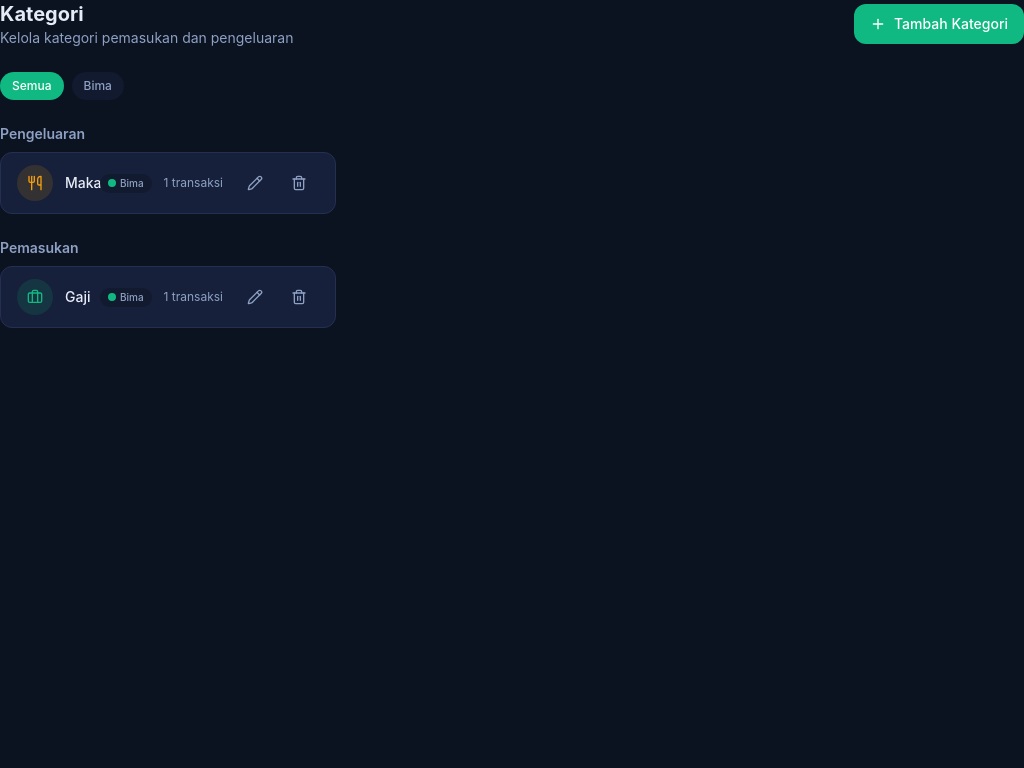
Test: CategoriesPage › allows deleting a category that is in use (transactions keep their data)
Expected: the text "Makanan" is shown, x1=65 y1=173 x2=88 y2=193
Click the button named "Hapus" in the row of "Makanan": (299, 183) x1=279 y1=169 x2=319 y2=197
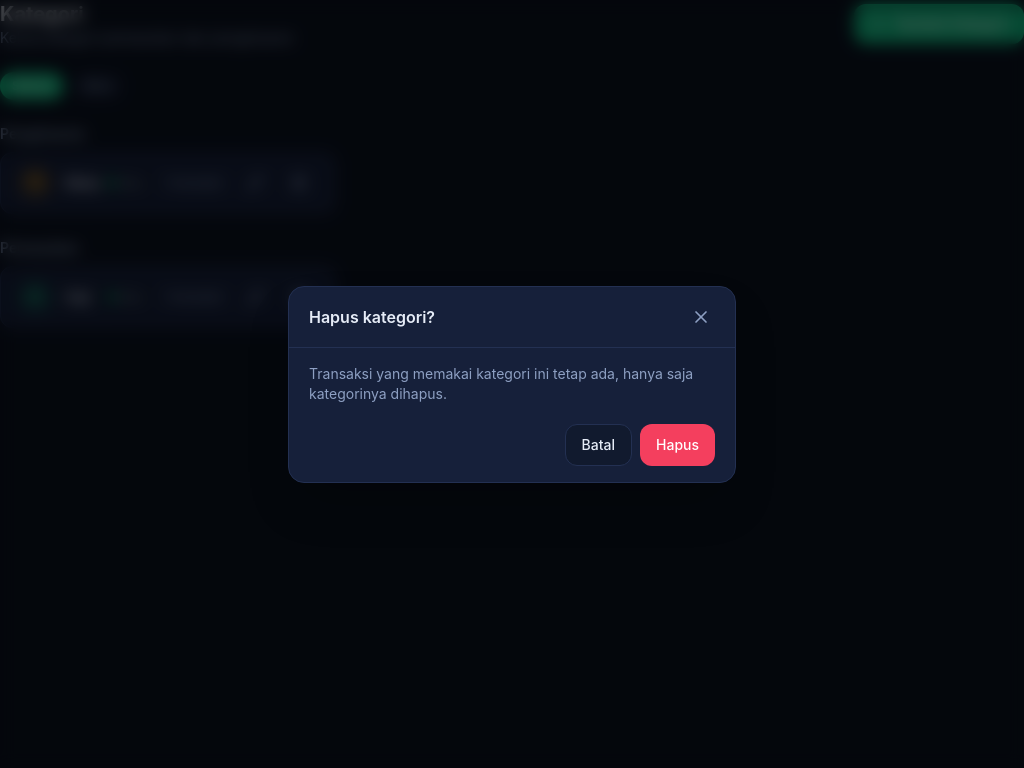
Expected: the heading "Hapus kategori?" is shown, x1=309 y1=304 x2=435 y2=328
Click the button "Hapus": (678, 444) x1=640 y1=424 x2=715 y2=466
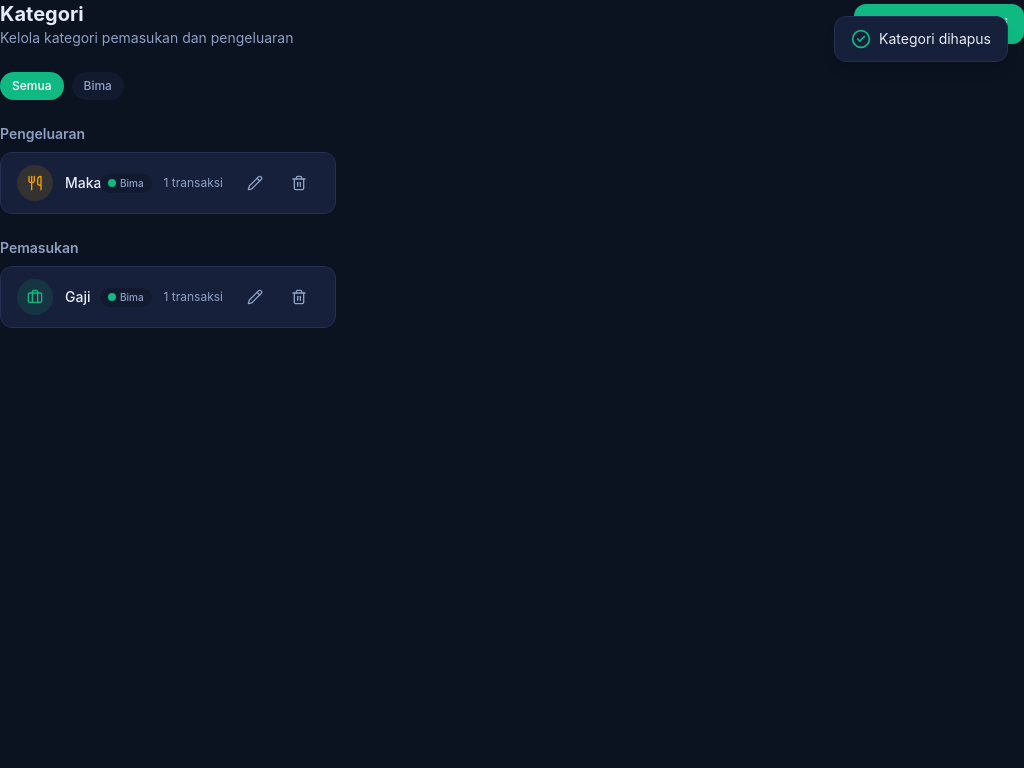
Expected: the text "Kategori dihapus" is shown, x1=879 y1=29 x2=991 y2=49
